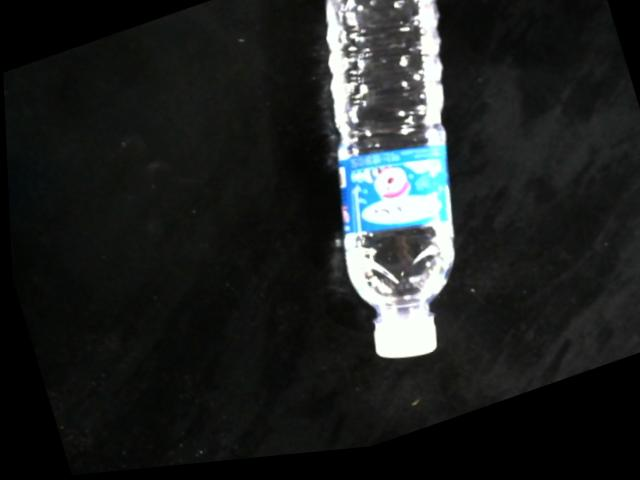bottle: (320, 0, 453, 368)
